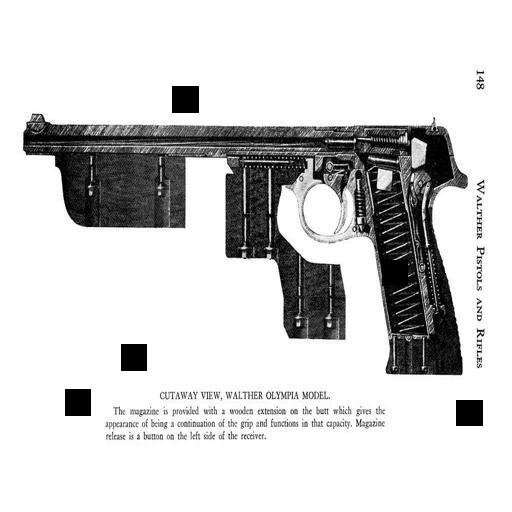Handgun: (18, 99, 467, 382)
